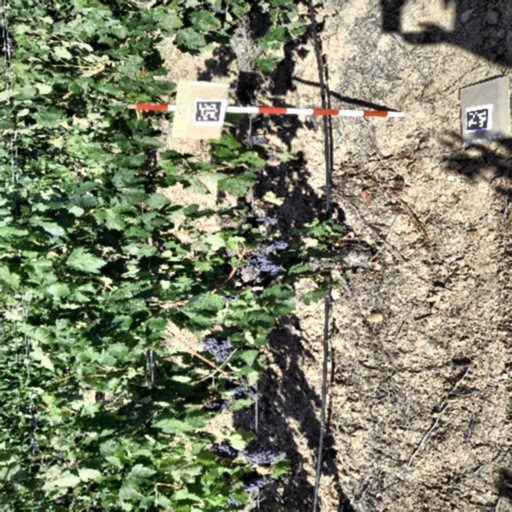QR: (465, 108, 489, 131), (197, 102, 220, 122)
